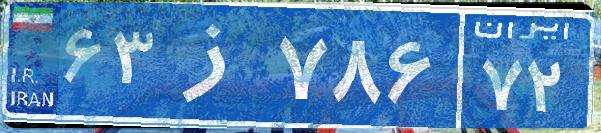2: (525, 38, 570, 115)
3: (110, 28, 158, 105)
6: (385, 28, 445, 110), (57, 26, 110, 107)
7: (273, 28, 330, 110), (475, 38, 525, 113)
8: (330, 28, 385, 110)
ز: (158, 15, 273, 115)
